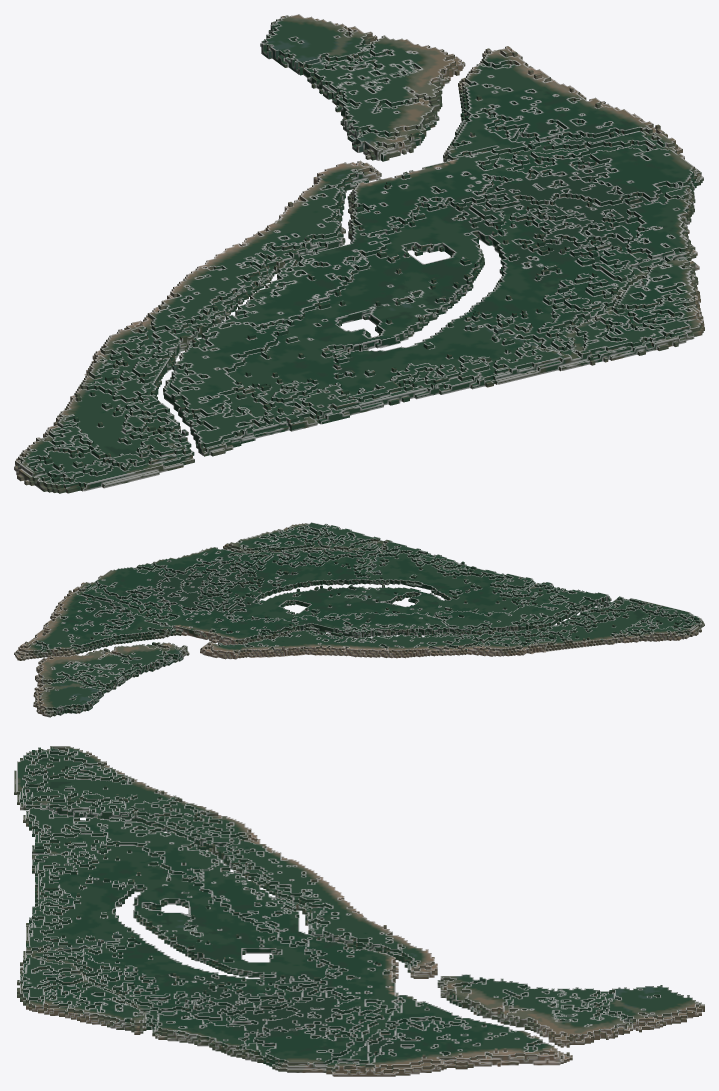
Rendered from ilhaMatinta.fbx.
3 views of the same model, one above another, from view 1: azimuth 30°, elevation 25°; view 2: azimuth 150°, elevation 25°; view 3: azimuth 270°, elevation 25° (orthographic). The views are drawn at different scales.
Visible parts, largest first — view 1: ilhaMatinta; view 2: ilhaMatinta; view 3: ilhaMatinta.
Boxes of the visible parts, bbox=[...] form: ilhaMatinta: bbox=[14, 14, 704, 493]; ilhaMatinta: bbox=[14, 522, 704, 717]; ilhaMatinta: bbox=[14, 746, 704, 1076].
Bounding box in the file's own units: 25.6 × 0.4 × 23.
